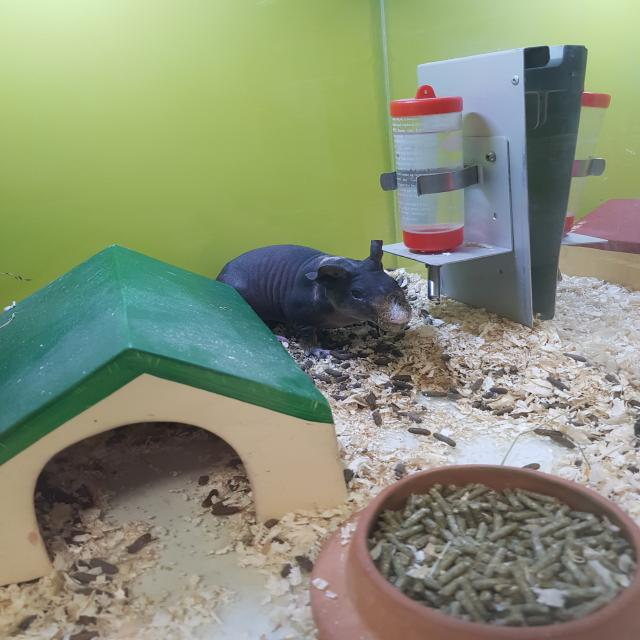guinea pig: (211, 237, 417, 360)
